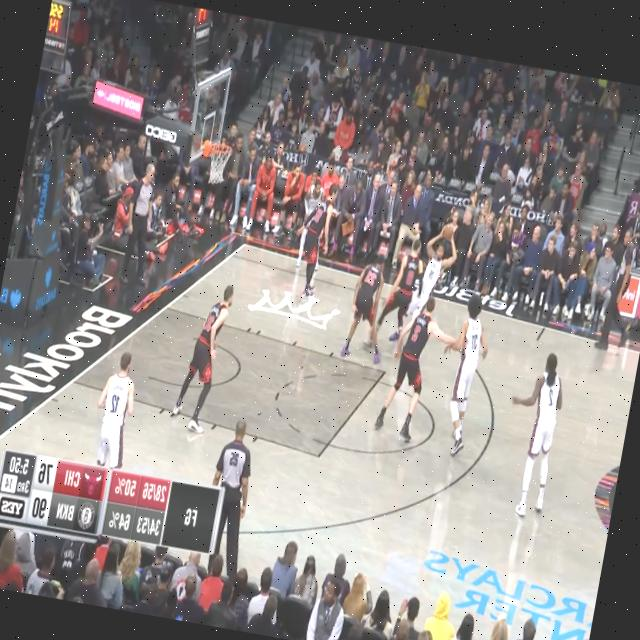no foul: (364, 277, 509, 446), (369, 204, 464, 363)
